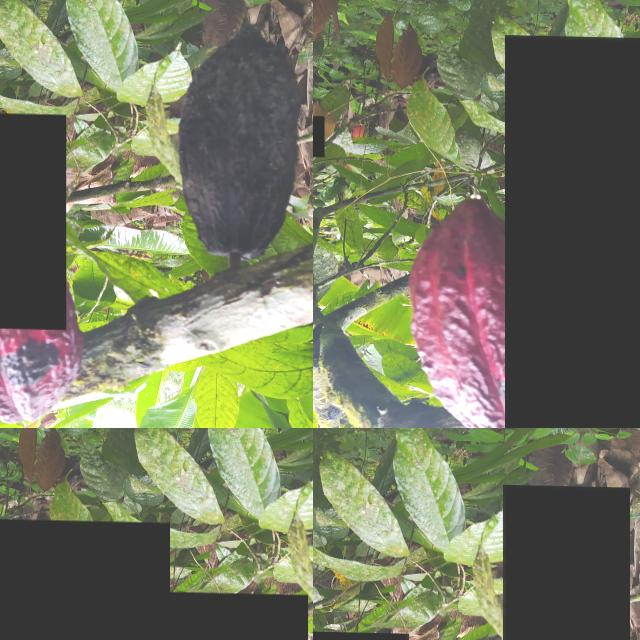Fitoftora: (505, 34, 640, 428), (0, 518, 170, 640), (503, 482, 629, 640), (117, 590, 308, 640), (12, 255, 57, 321)
Sana: (0, 111, 66, 328), (313, 116, 324, 156)
